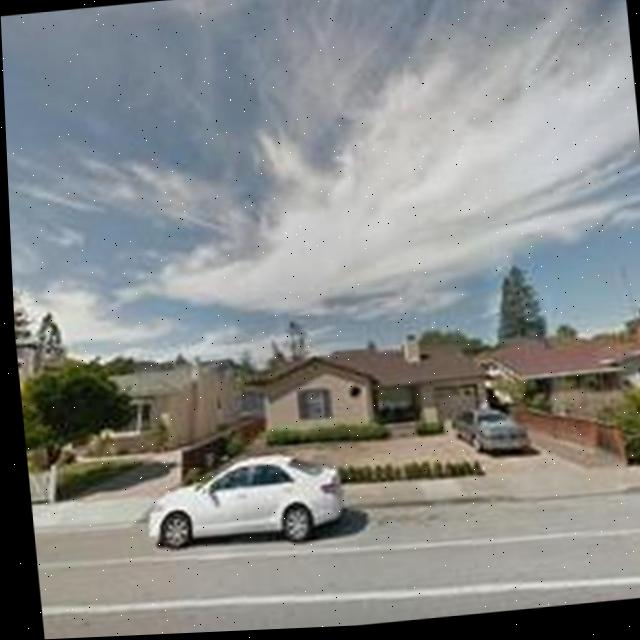building: (259, 332, 490, 445), (82, 356, 250, 461), (484, 323, 640, 419)
